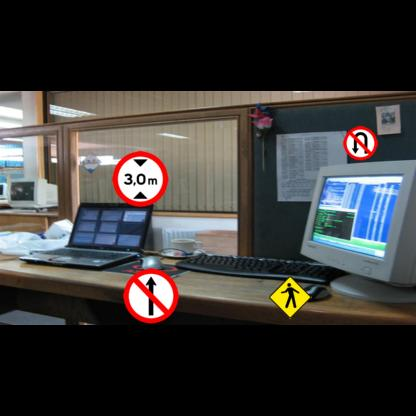A-32a: (269, 276, 311, 319)
R-15: (112, 151, 168, 206)
R-3: (123, 268, 179, 323)
R-5a: (343, 126, 378, 160)
